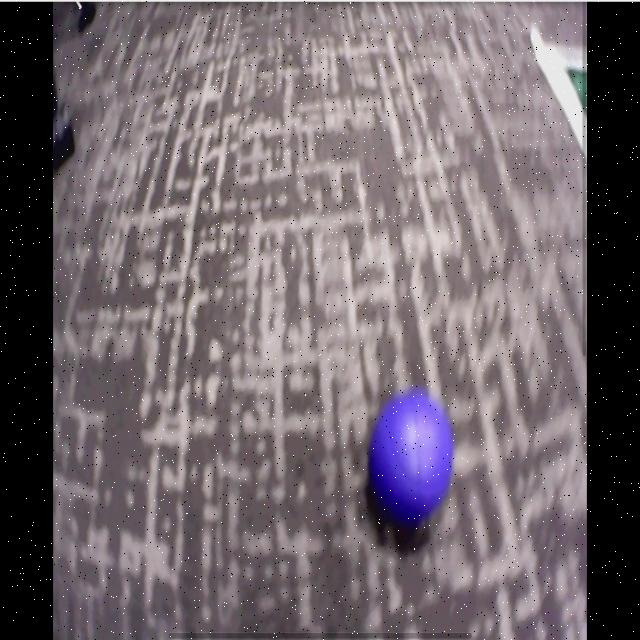ball: (373, 398, 455, 523)
